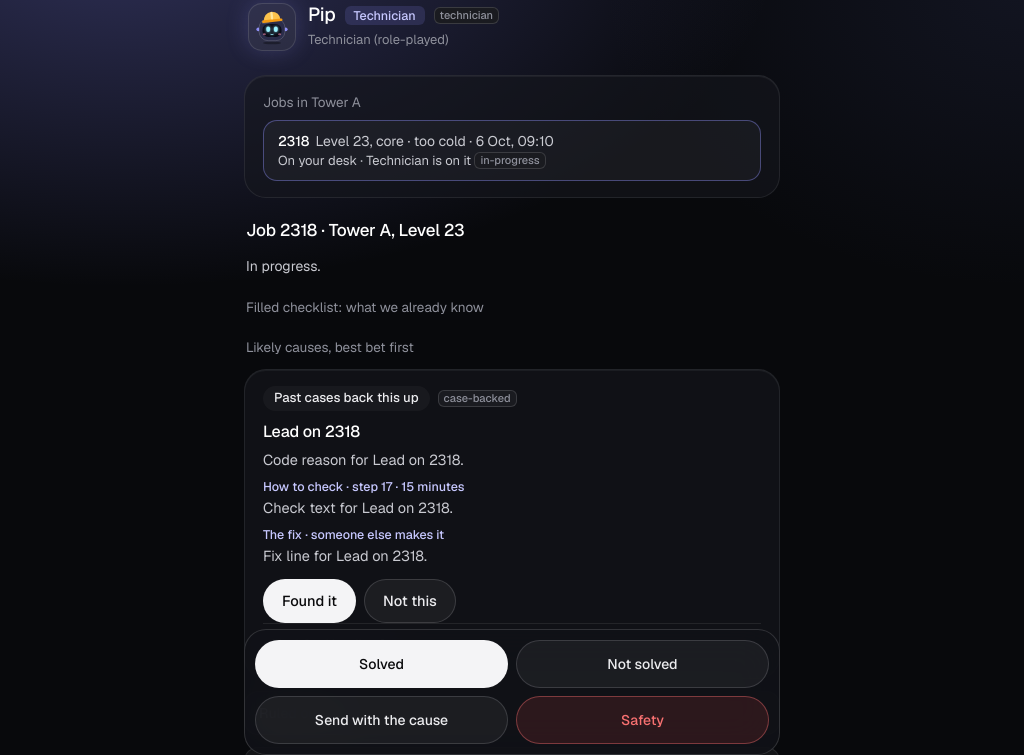
Test case: C7b review: a bar press that works scrolls Pip's new card into view › Not solved: the bar goes, and the chat scrolls to the escalated card
Click the button "Not solved" at (642, 664), box [516, 640, 769, 688]
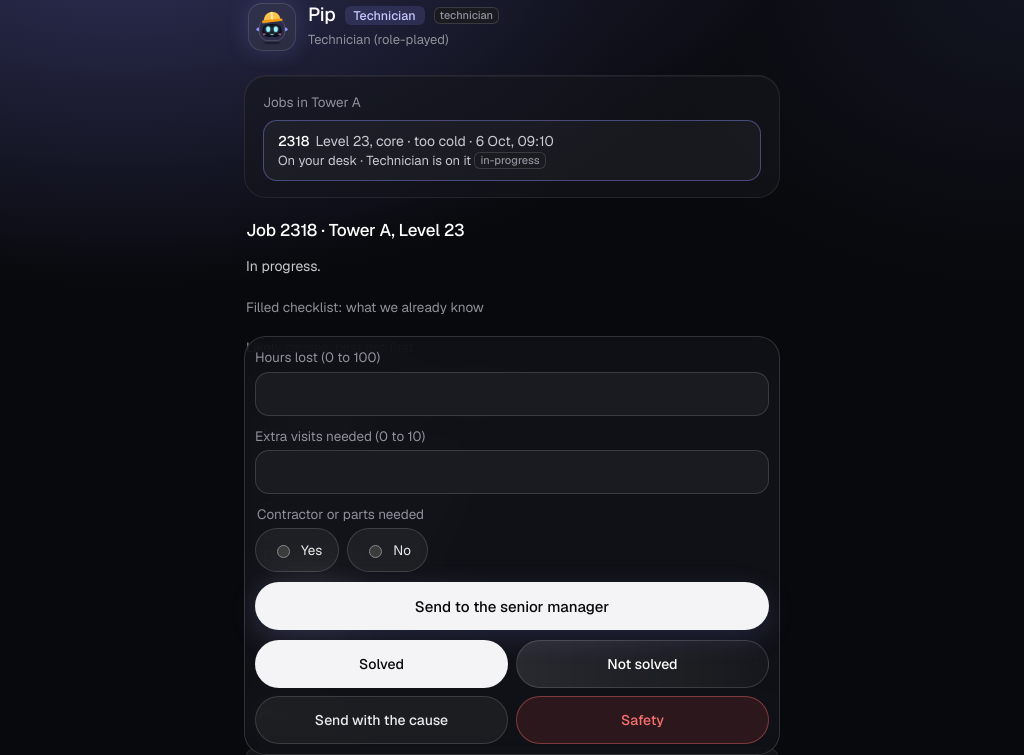
Type "3" into the number field labelled "Hours lost (0 to 100)" at (512, 394), box [255, 372, 769, 416]
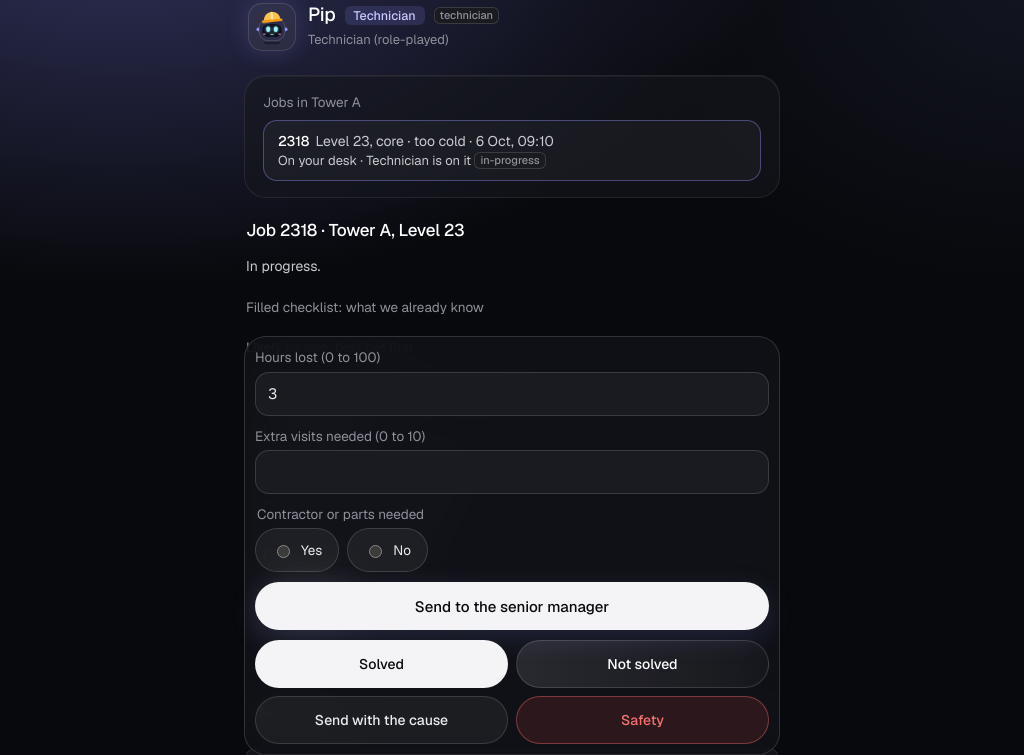
Type "2" into the number field labelled "Extra visits needed (0 to 10)" at (512, 472), box [255, 450, 769, 494]
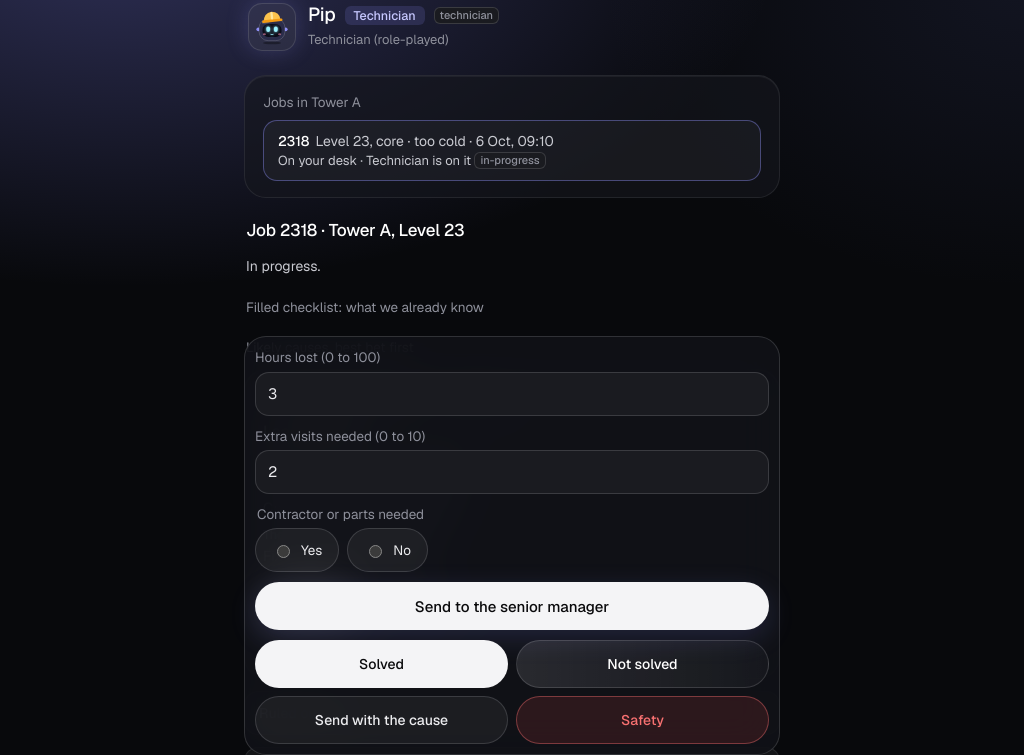
Click the radio button labelled "No" at (376, 552), box [369, 545, 382, 558]
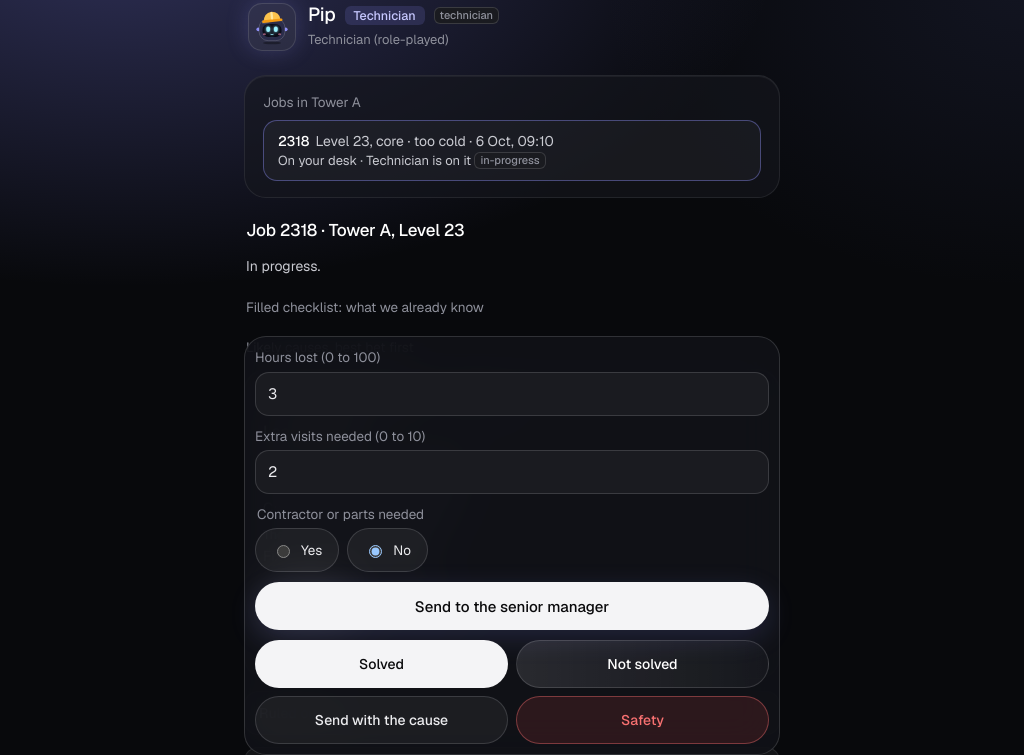
Click the button "Send to the senior manager" at (512, 606), box [255, 582, 769, 630]
(page scrolled)
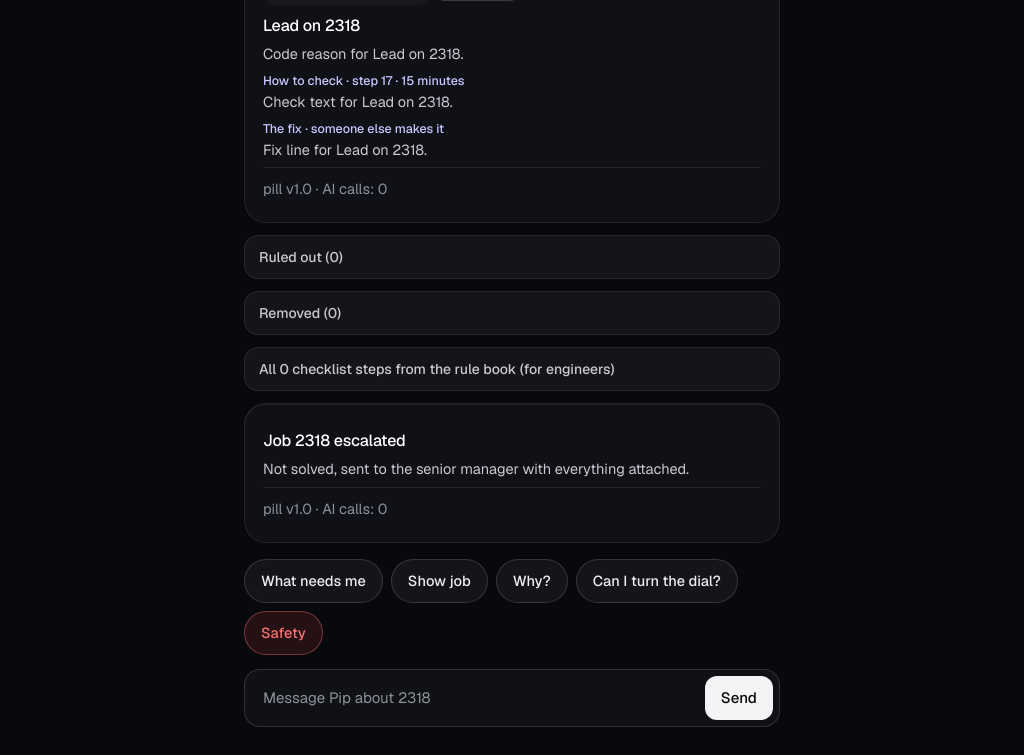
Check: the text "Job 2318 escalated" is shown, box [263, 430, 406, 452]
